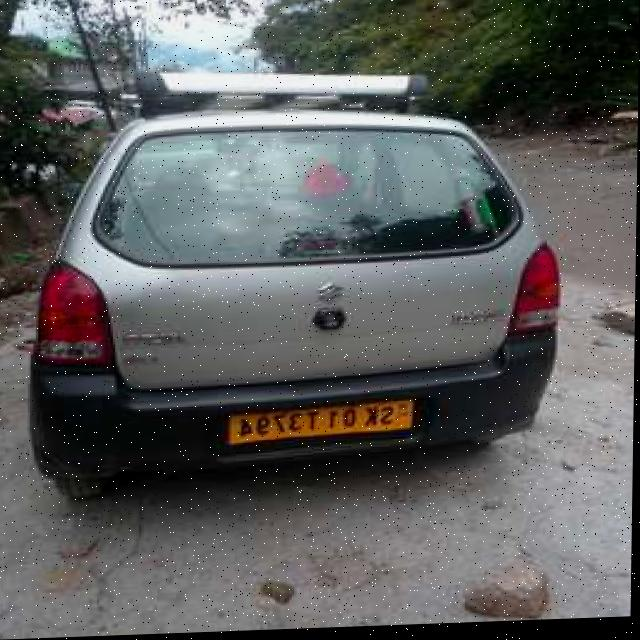plate: (225, 401, 417, 453)
